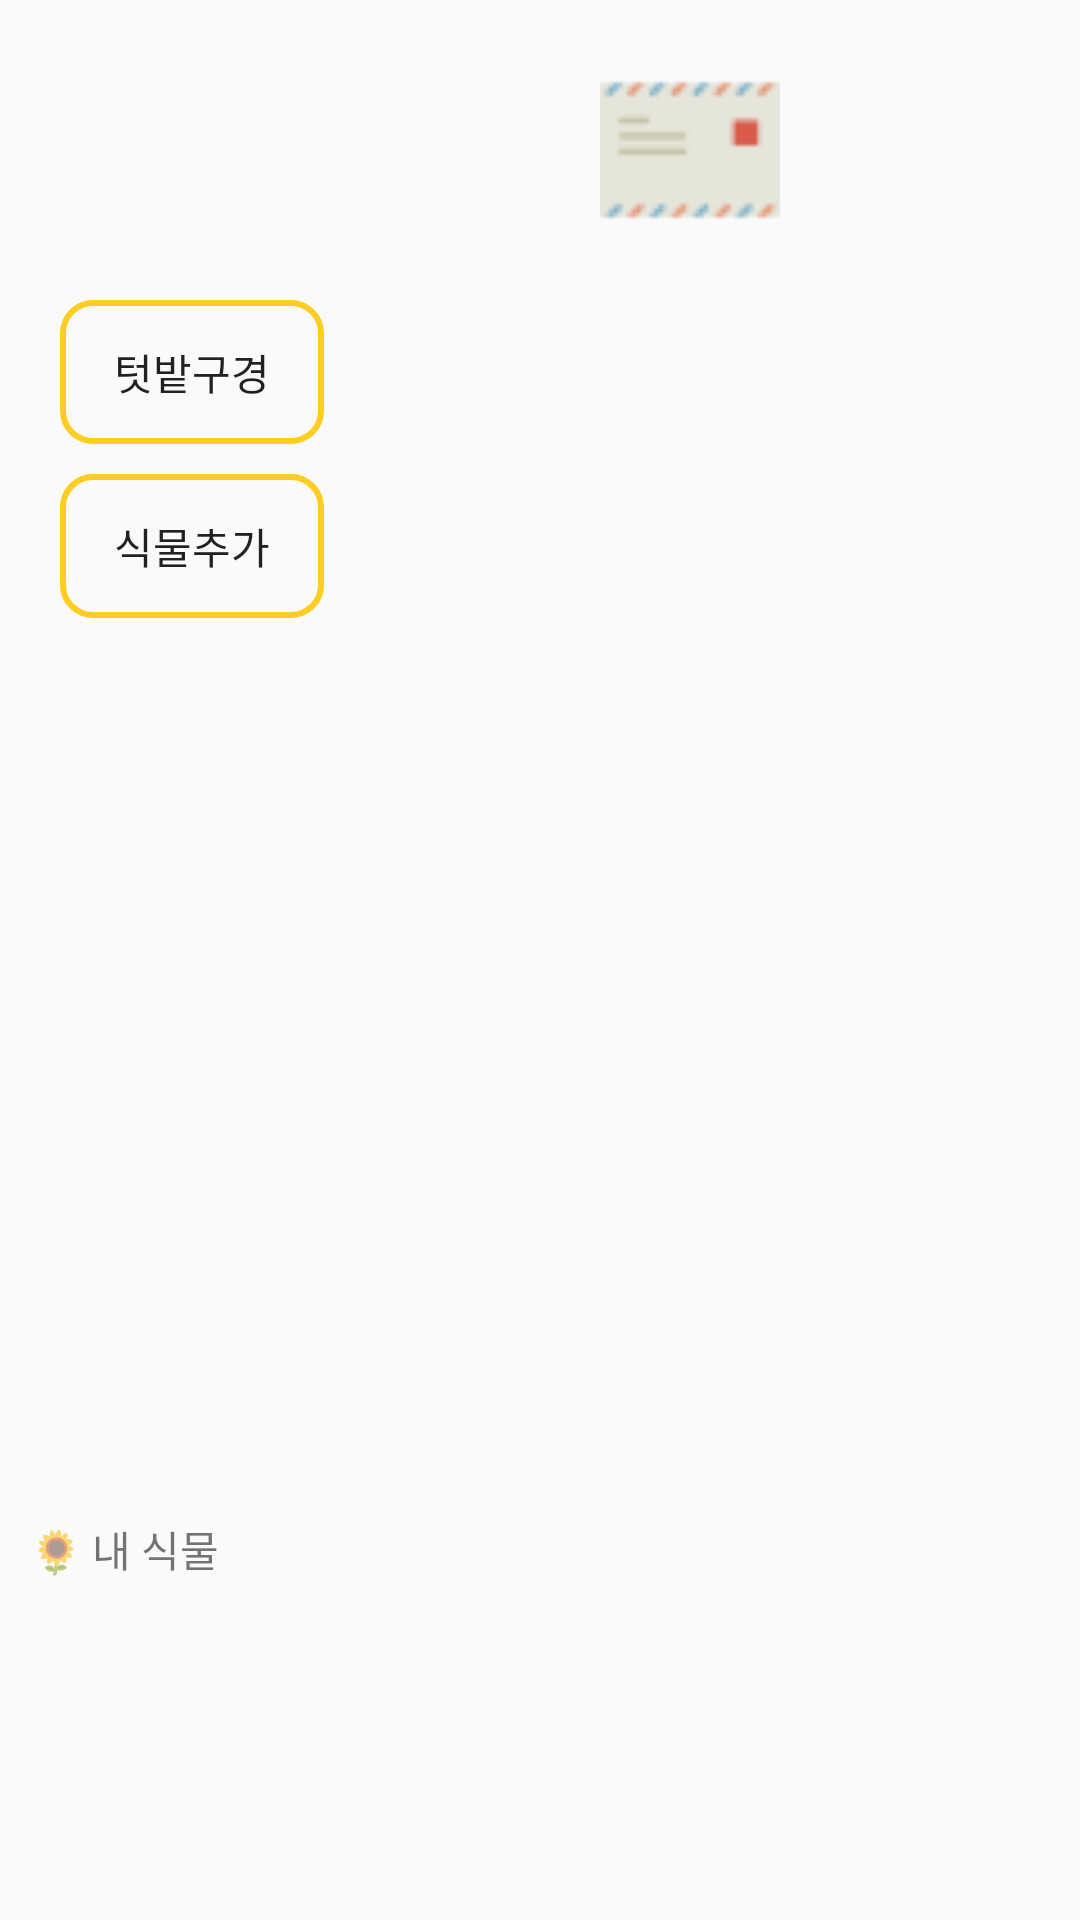

Icon click points for this 1080px×1920px phone screenshot, format (x=x, y=y):
post: (x=690, y=150)
